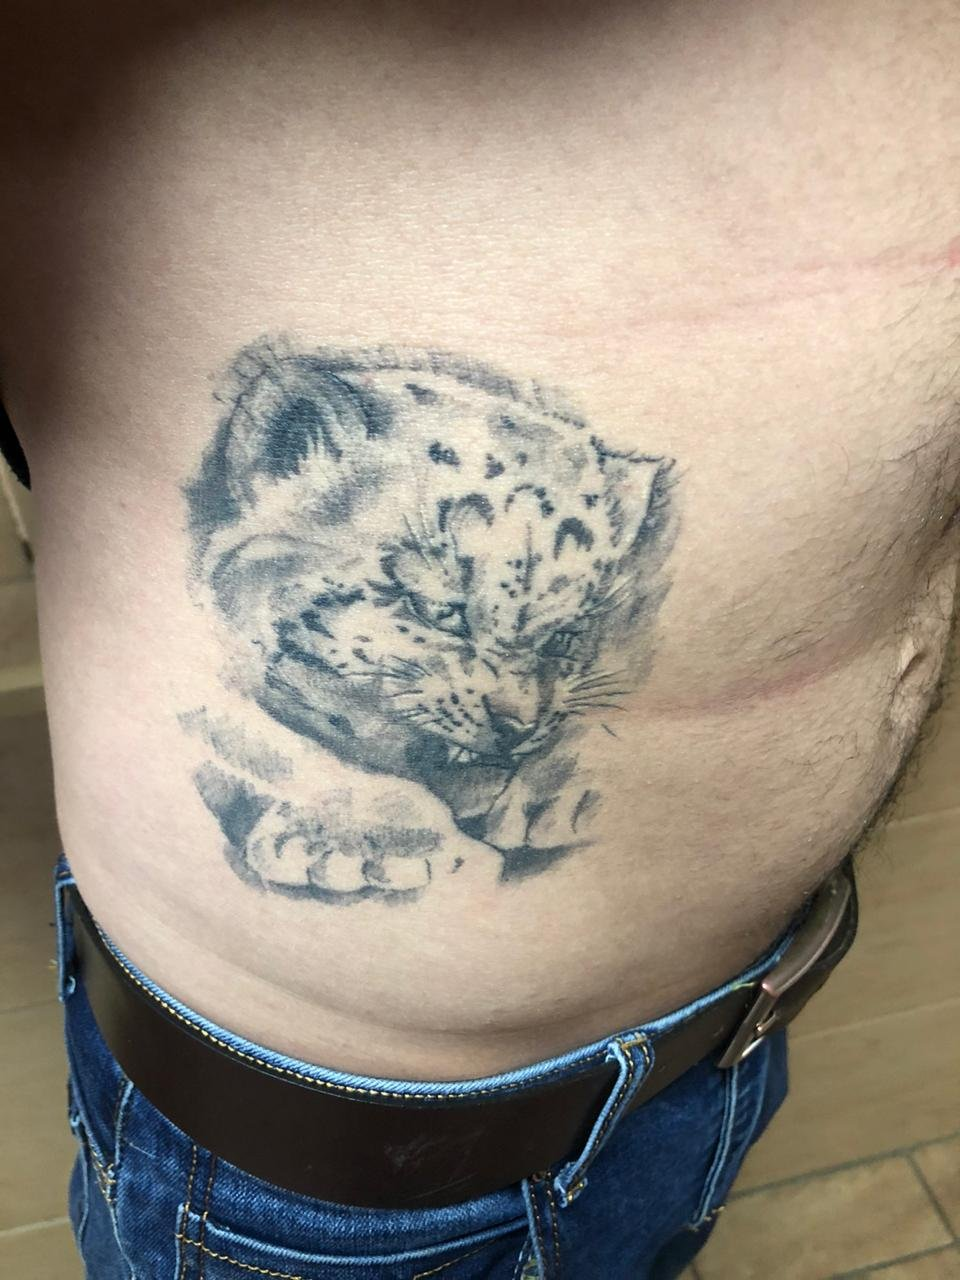tatu8_kot: (100, 321, 744, 974)
